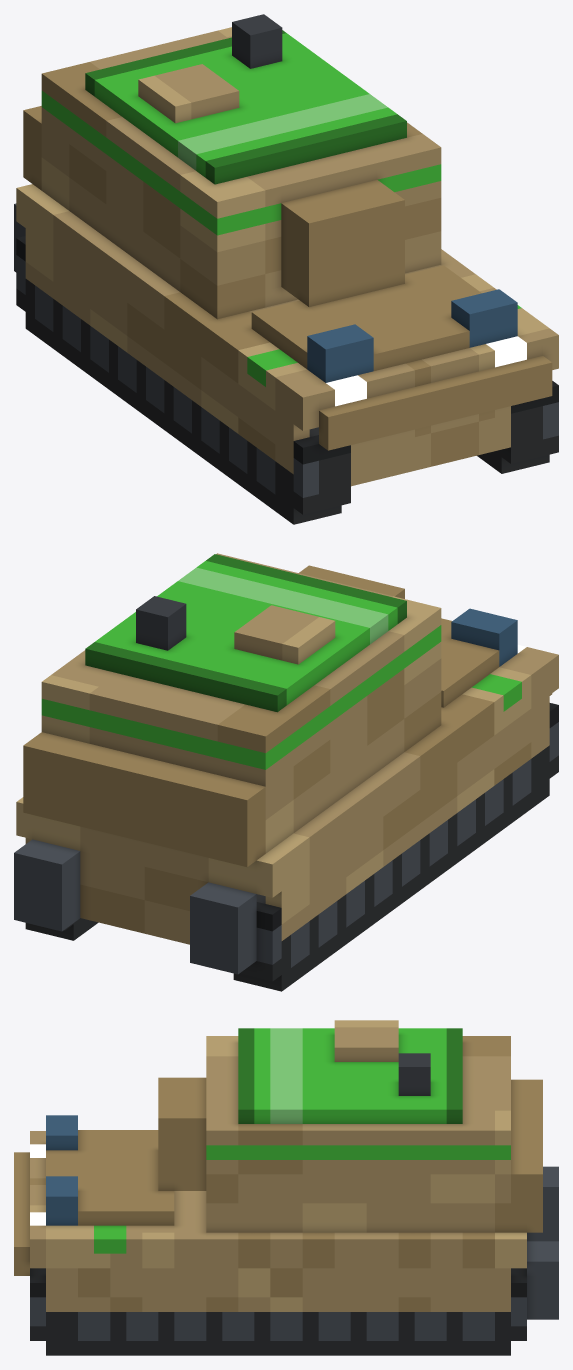
File: cm_artillery_h_3.glb
3 renders of one model, top to bottom at view 1: azimuth 30°, elevation 25°; view 2: azimuth 150°, elevation 25°; view 3: azimuth 270°, elevation 25°, orthographic. The views are drawn at different scales.
Visible parts, largest first — view 1: cm_artillery_h_3_body; view 2: cm_artillery_h_3_body; view 3: cm_artillery_h_3_body.
Part boxes in pixels (x1,y1,x2,y2): cm_artillery_h_3_body: (14,14,558,524); cm_artillery_h_3_body: (14,553,558,991); cm_artillery_h_3_body: (14,1020,558,1355).
Bounding box in the file's own units: 1 × 1.12 × 2.12.
1 material, 1 textured.
